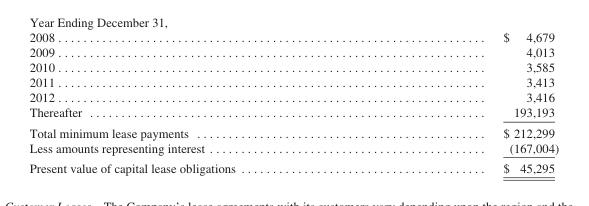table: (28, 29, 558, 174)
table column: (28, 29, 368, 174), (368, 29, 558, 174)
table row: (28, 104, 558, 122), (28, 139, 558, 157), (28, 122, 558, 139), (28, 157, 558, 174), (28, 43, 558, 59), (28, 59, 558, 74), (28, 74, 558, 89), (28, 89, 558, 104), (28, 29, 558, 43)
